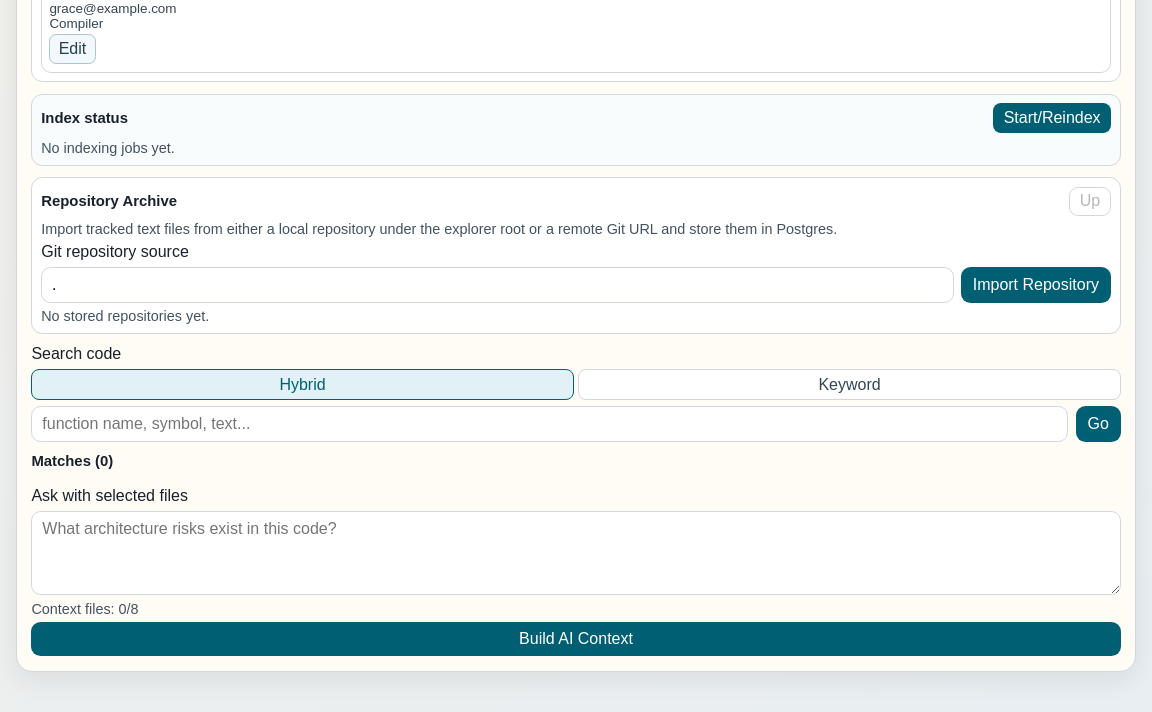
Explorer › validates question and context requirements before asking
(page scrolled)
Click the button "Build AI Context" at (576, 639), box left=31, top=622, right=1121, bottom=656
(page scrolled)
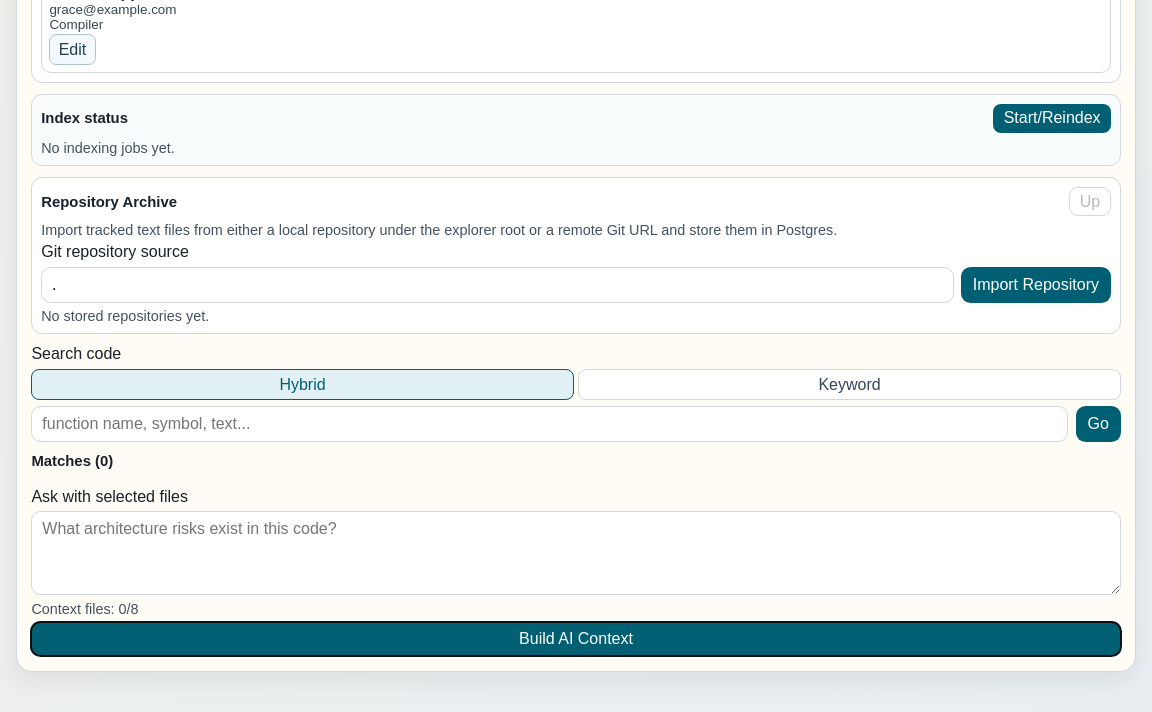
Type "What changed?" into the text box labelled "Ask with selected files" at (576, 553), box left=31, top=511, right=1121, bottom=595
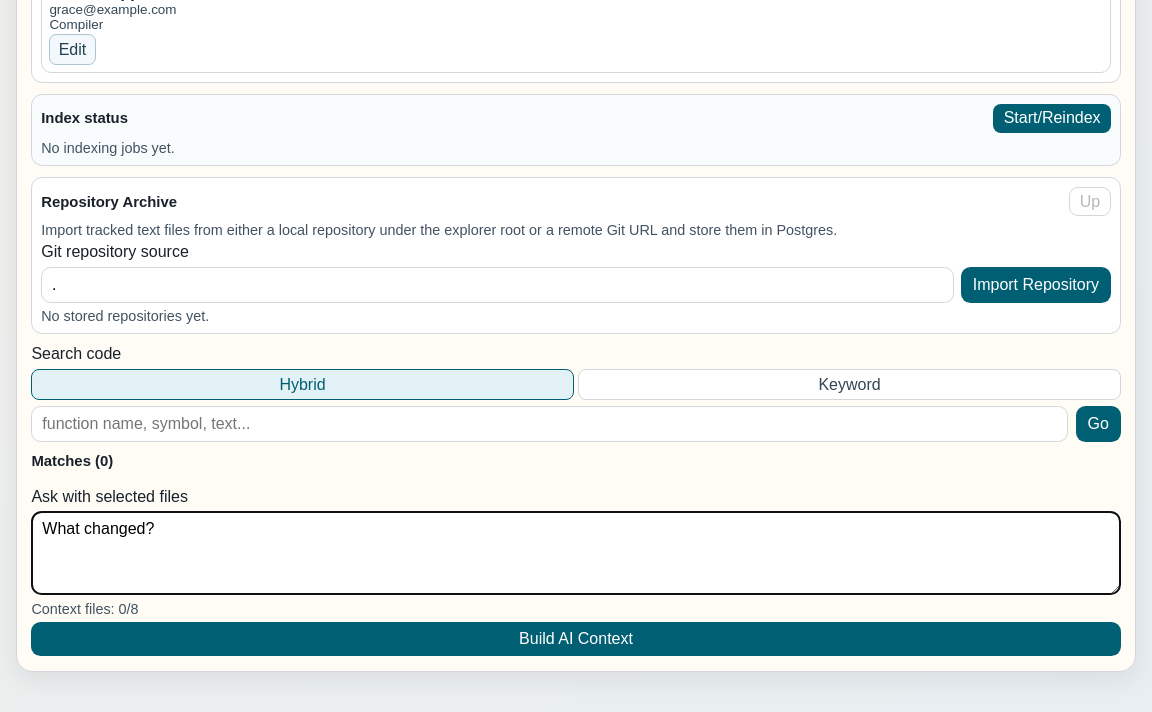
Click the button "Build AI Context" at (576, 639), box left=31, top=622, right=1121, bottom=656
(page scrolled)
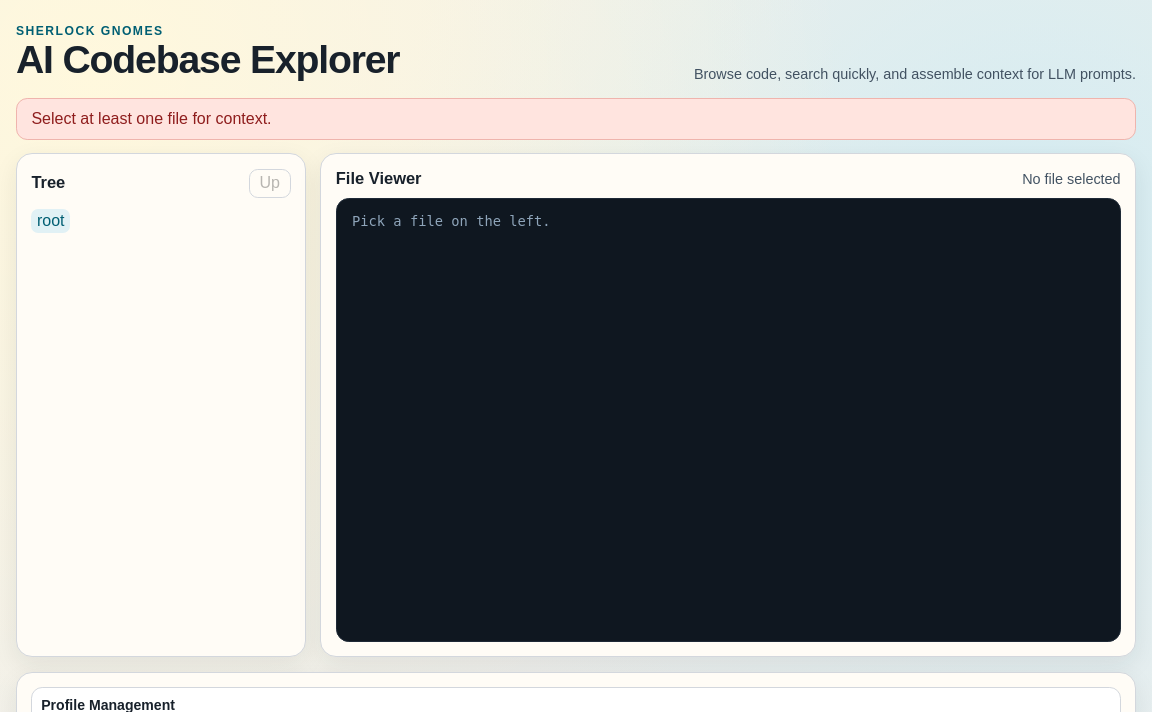
Expected: the text "Select at least one file for context." is shown, left=16, top=98, right=1136, bottom=140
